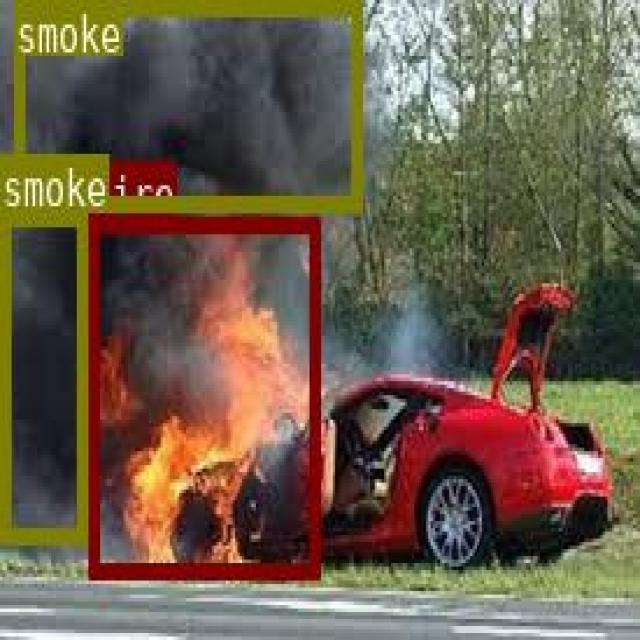fire: (88, 215, 317, 577)
smoke: (13, 0, 360, 210), (0, 208, 84, 540)
